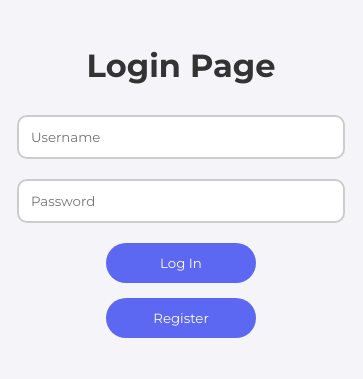
Test: login page tests › displays error message on failed login
The width and height of the screenshot is (363, 379).
Type "wronguser" into the field with placeholder "Username" at (181, 137), box [17,115,345,159]
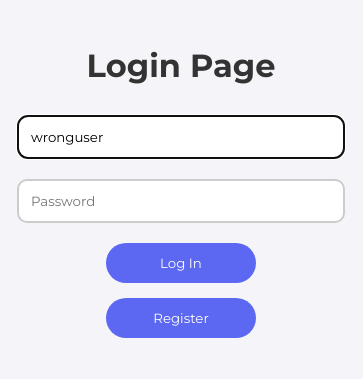
Type "wrongpass" into the password field with placeholder "Password" at (181, 201), box [17,179,345,223]
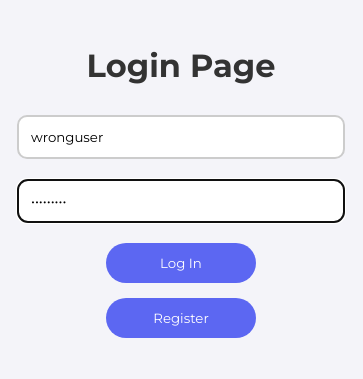
Click the button "Log In" at (181, 263), box [106,243,256,283]
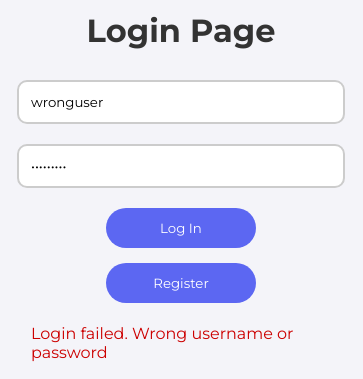
expect the text "Login failed. Wrong username or password" is shown: met, box [31,324,331,362]
